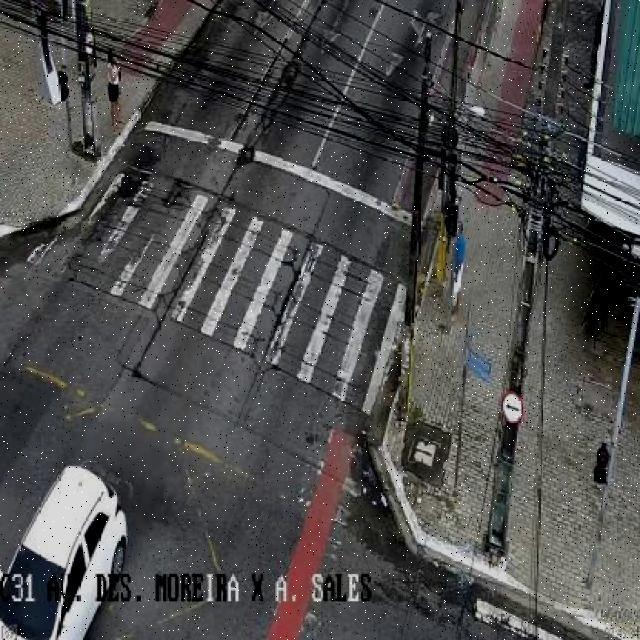Car: (0, 465, 131, 640)
